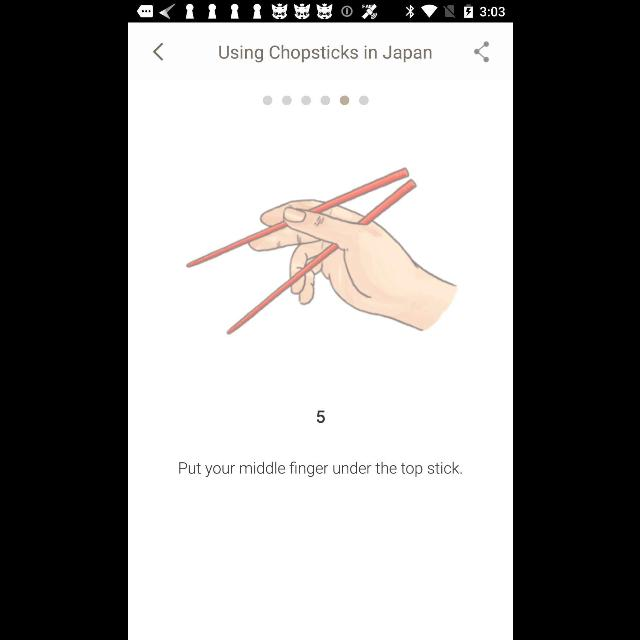icon: (473, 41, 489, 63), (152, 42, 164, 62)
image: (186, 167, 457, 331)
pageindicator: (262, 94, 368, 106)
text: (178, 460, 462, 478), (218, 45, 430, 63), (316, 411, 324, 424)
uppertaskbar: (128, 1, 512, 23)
